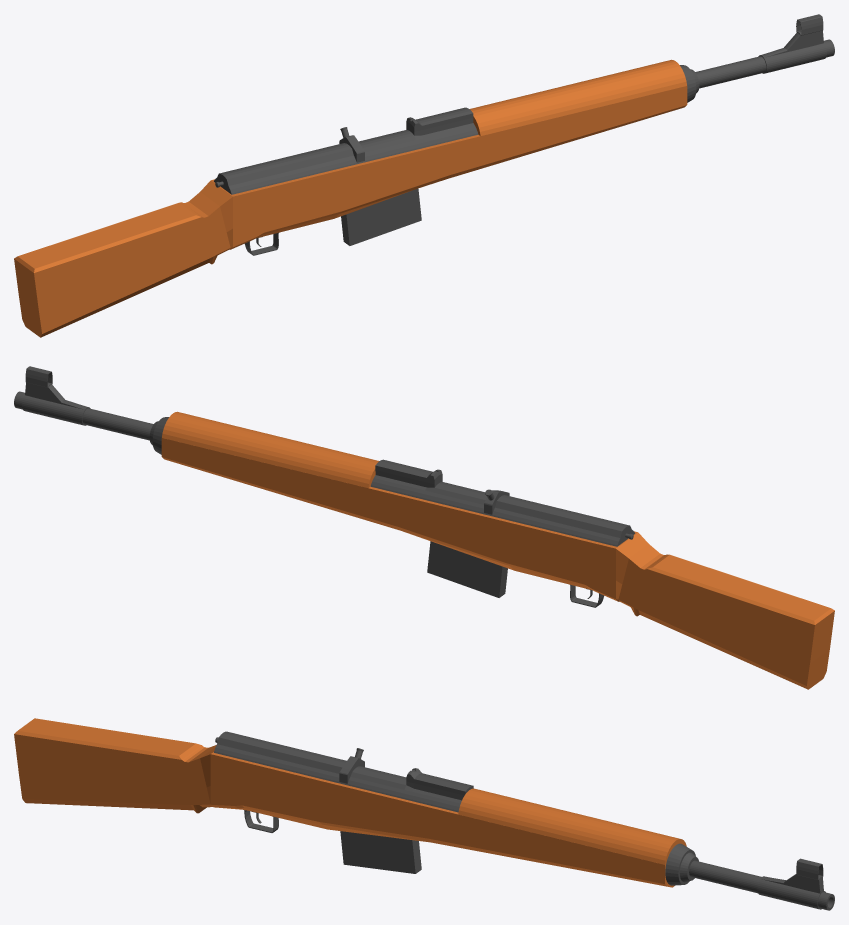
The picture shows the model from 3 angles, top to bottom: view 1: azimuth 30°, elevation 25°; view 2: azimuth 150°, elevation 25°; view 3: azimuth 330°, elevation 25°; orthographic projection.
Visible parts, largest first — view 1: base, chamber, base top, barrel, Magazine; view 2: base, chamber, base top, barrel, Magazine; view 3: base, chamber, base top, barrel, Magazine.
Part boxes in pixels (bbox=[...]): base: bbox=[14, 86, 687, 337]; chamber: bbox=[214, 107, 478, 194]; base top: bbox=[469, 59, 686, 136]; barrel: bbox=[680, 14, 834, 102]; Magazine: bbox=[341, 188, 421, 245]; base: bbox=[161, 438, 834, 689]; chamber: bbox=[370, 459, 634, 546]; base top: bbox=[162, 411, 378, 488]; barrel: bbox=[14, 366, 168, 454]; Magazine: bbox=[427, 541, 507, 597]; base: bbox=[14, 718, 674, 887]; chamber: bbox=[214, 731, 473, 812]; base top: bbox=[458, 788, 686, 864]; barrel: bbox=[665, 843, 834, 910]; Magazine: bbox=[340, 831, 421, 873].
Bounding box in the file's own units: 3375 × 499 × 162.
